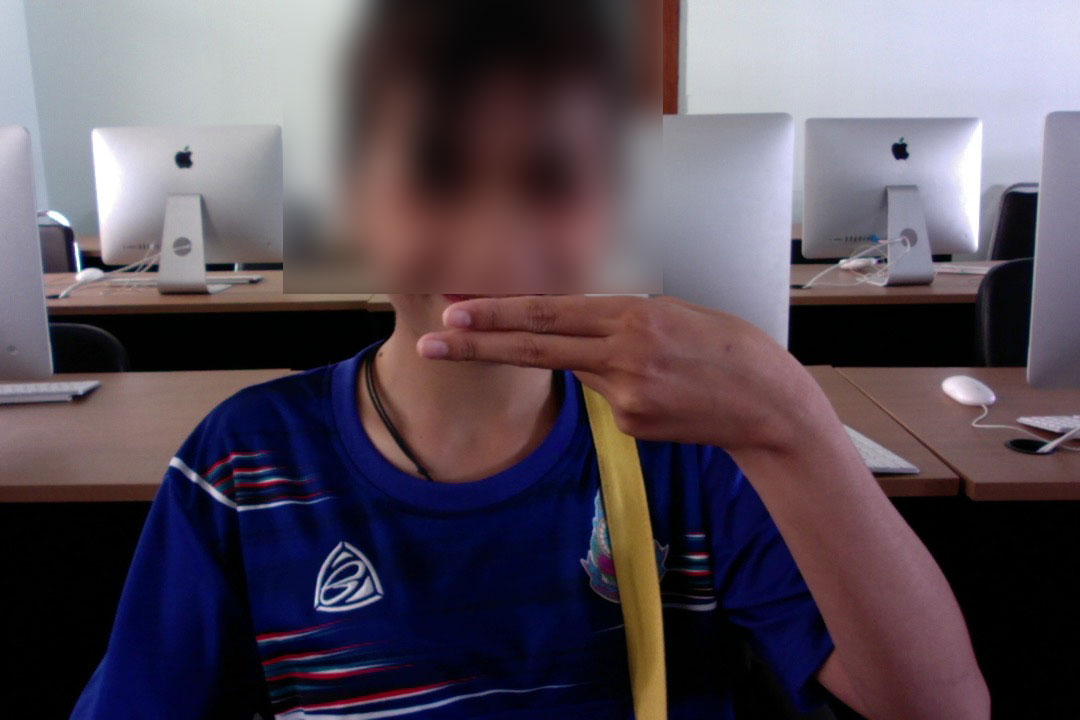hor: (403, 279, 830, 453)
